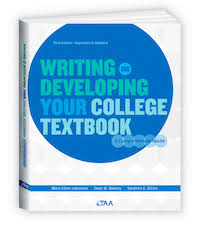book: (17, 8, 185, 211)
